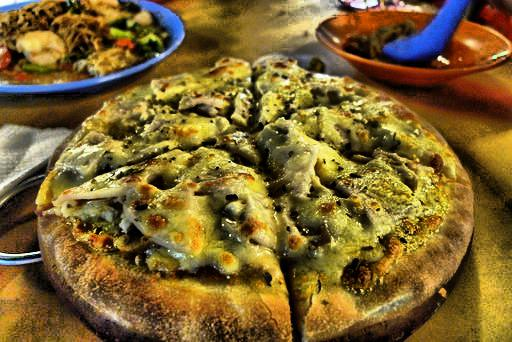pizza: (37, 64, 488, 334)
